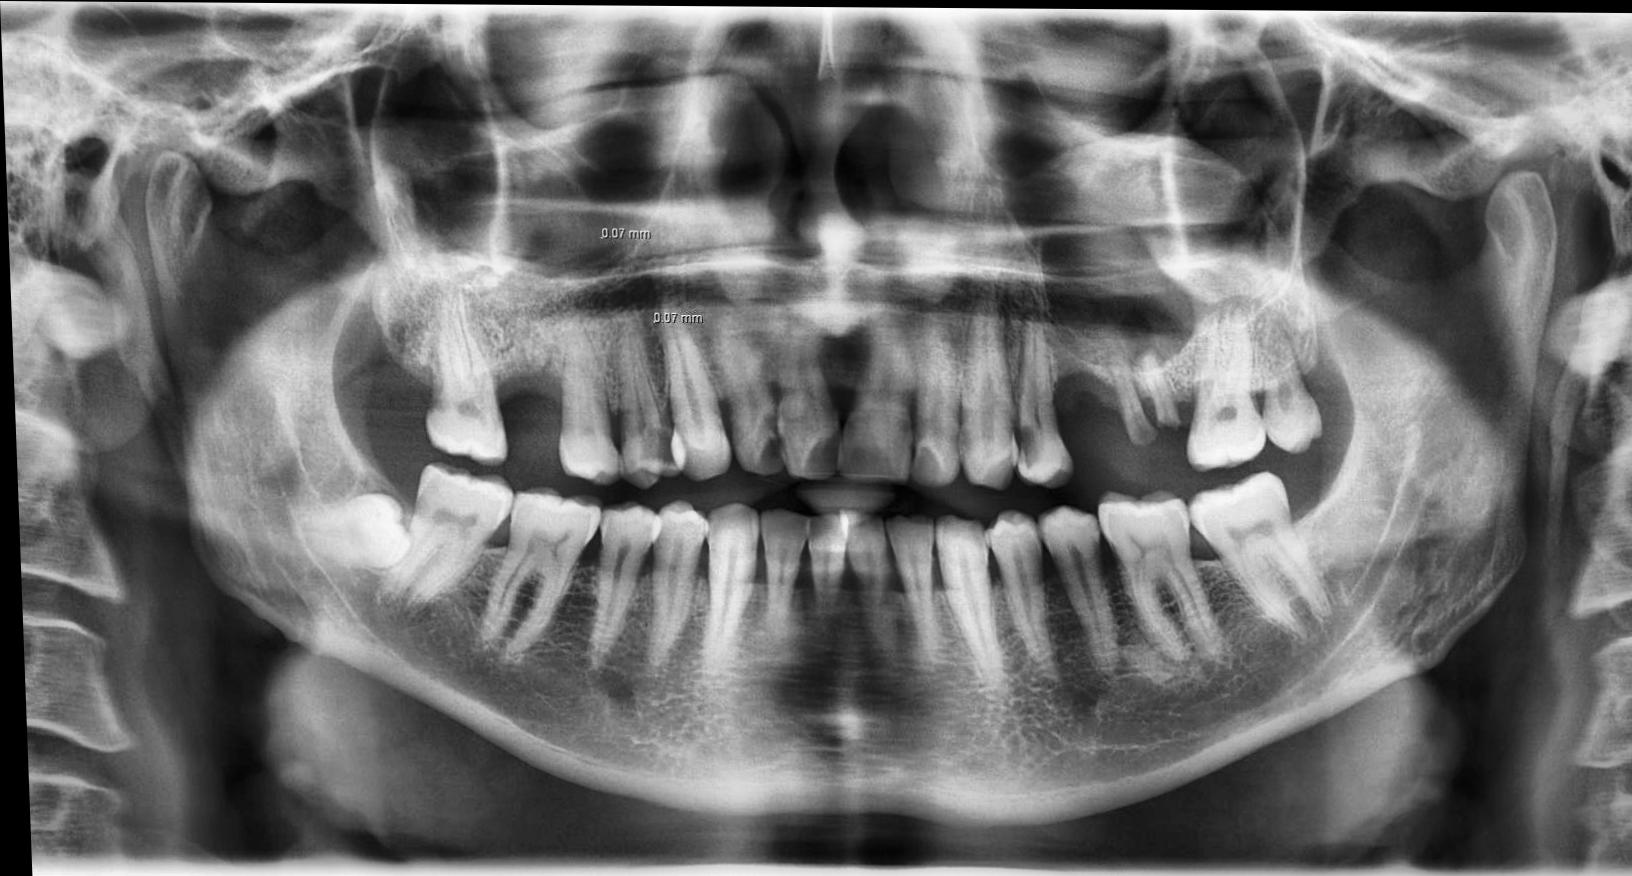radikuler: (1001, 167, 1195, 371)
